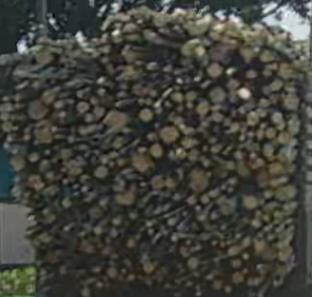medium: (104, 112, 127, 129), (30, 101, 48, 119), (161, 125, 178, 143), (192, 173, 208, 191), (35, 128, 51, 144), (134, 156, 149, 172), (210, 87, 225, 102), (9, 156, 24, 171), (117, 194, 135, 206), (287, 95, 300, 111), (94, 166, 108, 177), (70, 169, 81, 175)
small: (208, 65, 222, 77), (152, 176, 164, 190), (242, 196, 256, 208), (151, 145, 163, 157), (140, 109, 152, 121), (261, 52, 274, 62), (279, 133, 290, 144), (43, 92, 54, 103), (248, 113, 258, 125), (270, 165, 282, 174), (78, 103, 88, 113), (197, 104, 207, 114), (234, 273, 244, 283), (272, 80, 282, 90), (253, 159, 263, 169), (106, 269, 116, 278), (173, 93, 183, 102), (144, 29, 153, 39), (186, 93, 195, 102), (212, 145, 222, 153), (190, 258, 198, 268), (177, 148, 185, 158), (229, 81, 239, 89), (265, 147, 273, 156), (267, 129, 275, 138), (3, 123, 12, 131), (273, 113, 281, 122), (240, 89, 248, 98), (145, 263, 153, 272), (62, 151, 71, 159), (278, 191, 287, 199), (147, 63, 157, 70), (213, 114, 221, 122), (30, 153, 38, 161), (232, 260, 240, 268), (229, 248, 237, 256), (260, 99, 269, 106), (247, 71, 256, 78), (232, 123, 239, 131), (114, 141, 121, 149), (128, 240, 135, 248), (101, 155, 108, 163), (188, 198, 196, 205), (199, 213, 206, 221), (235, 152, 242, 160), (64, 199, 71, 207), (279, 252, 286, 260), (196, 48, 204, 55), (1, 114, 8, 121), (5, 104, 12, 111), (13, 95, 20, 102), (95, 227, 102, 234), (98, 77, 105, 84), (117, 159, 124, 166), (150, 90, 157, 97), (202, 196, 208, 204), (55, 102, 63, 108), (0, 105, 6, 113), (208, 137, 215, 143), (114, 219, 121, 225), (226, 287, 233, 293), (229, 179, 236, 185), (103, 248, 110, 254), (227, 68, 233, 75), (98, 89, 105, 95), (90, 98, 97, 104), (169, 220, 175, 226), (227, 162, 233, 168), (68, 137, 74, 143), (175, 194, 180, 201), (86, 115, 91, 122), (60, 267, 65, 274), (225, 120, 230, 126), (147, 221, 152, 227), (52, 126, 57, 132), (8, 136, 13, 142), (82, 187, 88, 192), (94, 268, 100, 273), (118, 92, 124, 97), (177, 79, 183, 84), (77, 91, 82, 97), (104, 47, 109, 53), (100, 200, 105, 206), (106, 237, 111, 243), (146, 99, 151, 105), (139, 99, 144, 105), (80, 232, 85, 238), (193, 272, 200, 276), (149, 229, 154, 234), (60, 112, 65, 117), (24, 136, 29, 141), (4, 144, 9, 149), (265, 192, 270, 197), (172, 236, 177, 241), (243, 254, 248, 259), (122, 84, 127, 89), (204, 161, 209, 166), (236, 234, 241, 239), (272, 181, 277, 186), (129, 275, 134, 280), (203, 146, 207, 152), (187, 104, 193, 108), (212, 213, 216, 219), (222, 185, 226, 190), (16, 104, 20, 109), (46, 150, 50, 155), (109, 162, 114, 166), (249, 132, 253, 137), (258, 233, 262, 238), (270, 235, 274, 240), (264, 216, 268, 221), (122, 51, 127, 55), (125, 46, 130, 50), (188, 282, 192, 287), (14, 126, 18, 131), (183, 212, 187, 216), (197, 206, 201, 210), (229, 189, 233, 193), (65, 227, 69, 231), (64, 180, 68, 184), (251, 154, 255, 158), (240, 136, 244, 140), (213, 241, 217, 245), (265, 227, 269, 231), (175, 70, 179, 74), (4, 97, 7, 102), (195, 78, 200, 81), (122, 269, 125, 274), (141, 183, 146, 186), (187, 241, 190, 245), (221, 243, 224, 247), (228, 242, 231, 245), (222, 226, 225, 229), (276, 229, 278, 232)
